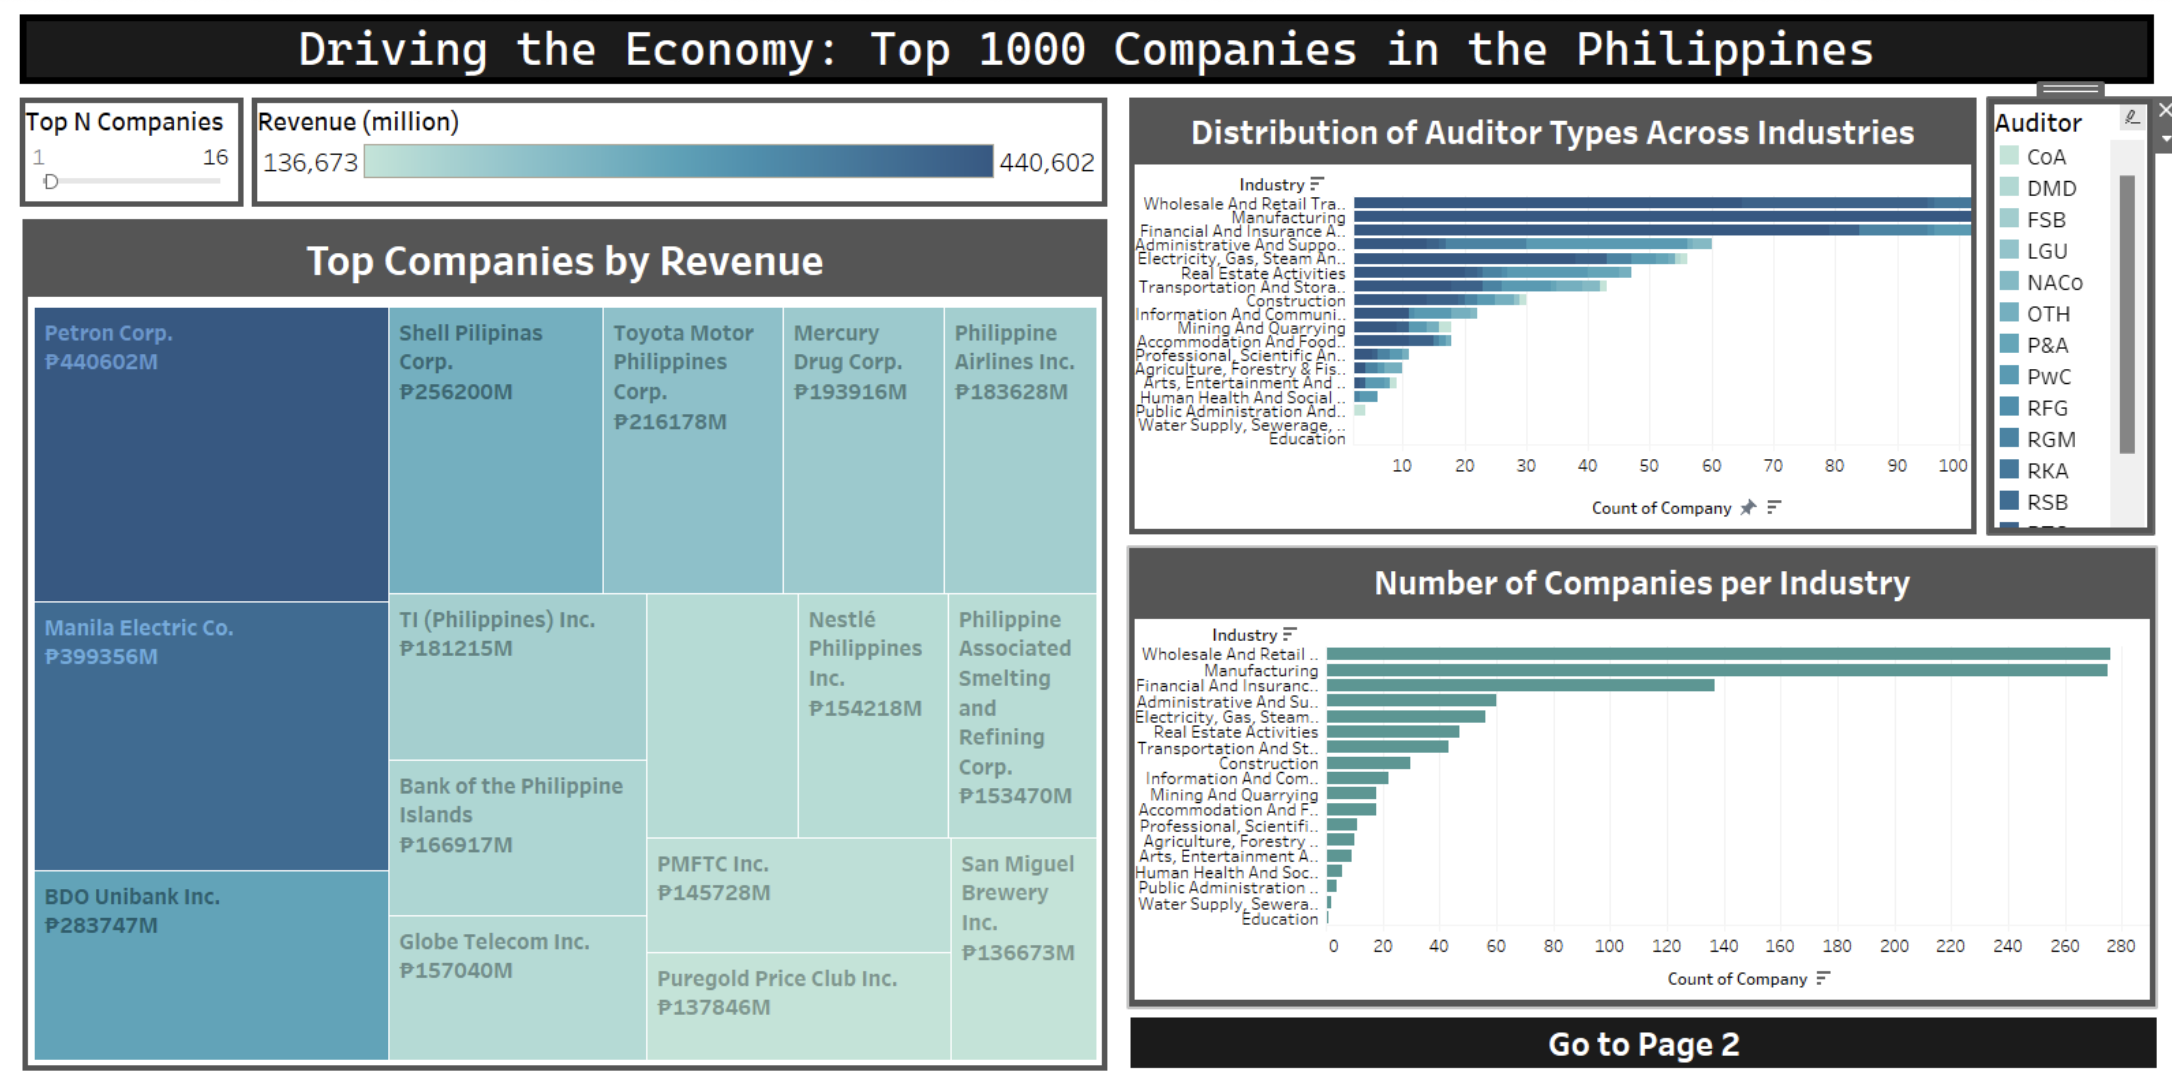

The page's visual inventory and layout, read from the dashboard file:
{"tool":"tableau","page":{"name":"Dashboard 1","canvas":[1600,800],"ordinal":0},"visuals":[{"type":"text","box":[19,13,1564,51]},{"type":"filter","title":"Top Companies by Revenue ","param":"[federated.07hzdsn0sv9lp61ahmo981x85230].[rank:sum:Revenue (million):qk:3]","box":[19,74,138,80]},{"type":"legend","title":"Top Companies by Revenue ","param":"[federated.07hzdsn0sv9lp61ahmo981x85230].[sum:Revenue (million):qk]","box":[167,74,474,80]},{"type":"filter","title":"Number of Companies per Industry","param":"[federated.07hzdsn0sv9lp61ahmo981x85230].[none:Industry:nk]","box":[649,74,165,80]},{"type":"worksheet","title":"Number of Companies per Industry","mark":"Automatic","rows":["Industry"],"cols":["Company"],"box":[831,75,750,330]},{"type":"worksheet","title":"Top Companies by Revenue ","mark":"Automatic","box":[21,163,795,624]},{"type":"legend","title":"Distribution of Auditor Types Across Industries","param":"[federated.07hzdsn0sv9lp61ahmo981x85230].[none:Auditor:nk]","box":[1463,416,120,321]},{"type":"worksheet","title":"Distribution of Auditor Types Across Industries","mark":"Automatic","rows":["Industry"],"cols":["Company"],"box":[832,417,621,320]},{"type":"dashboard-object","box":[833,748,752,37]}]}

Visuals, with their boxes in screenshot pixels (x1, y1, x2, y2), scaled from the page's 1600x800 canvas onto the 2172x1088 screenshot:
text: x1=26 y1=18 x2=2149 y2=87
"Top Companies by Revenue " filter: x1=26 y1=101 x2=213 y2=209
"Top Companies by Revenue " legend: x1=227 y1=101 x2=870 y2=209
"Number of Companies per Industry" filter: x1=881 y1=101 x2=1105 y2=209
"Number of Companies per Industry" worksheet: x1=1128 y1=102 x2=2146 y2=551
"Top Companies by Revenue " worksheet: x1=29 y1=222 x2=1108 y2=1070
"Distribution of Auditor Types Across Industries" legend: x1=1986 y1=566 x2=2149 y2=1002
"Distribution of Auditor Types Across Industries" worksheet: x1=1129 y1=567 x2=1972 y2=1002
dashboard-object: x1=1131 y1=1017 x2=2152 y2=1068
